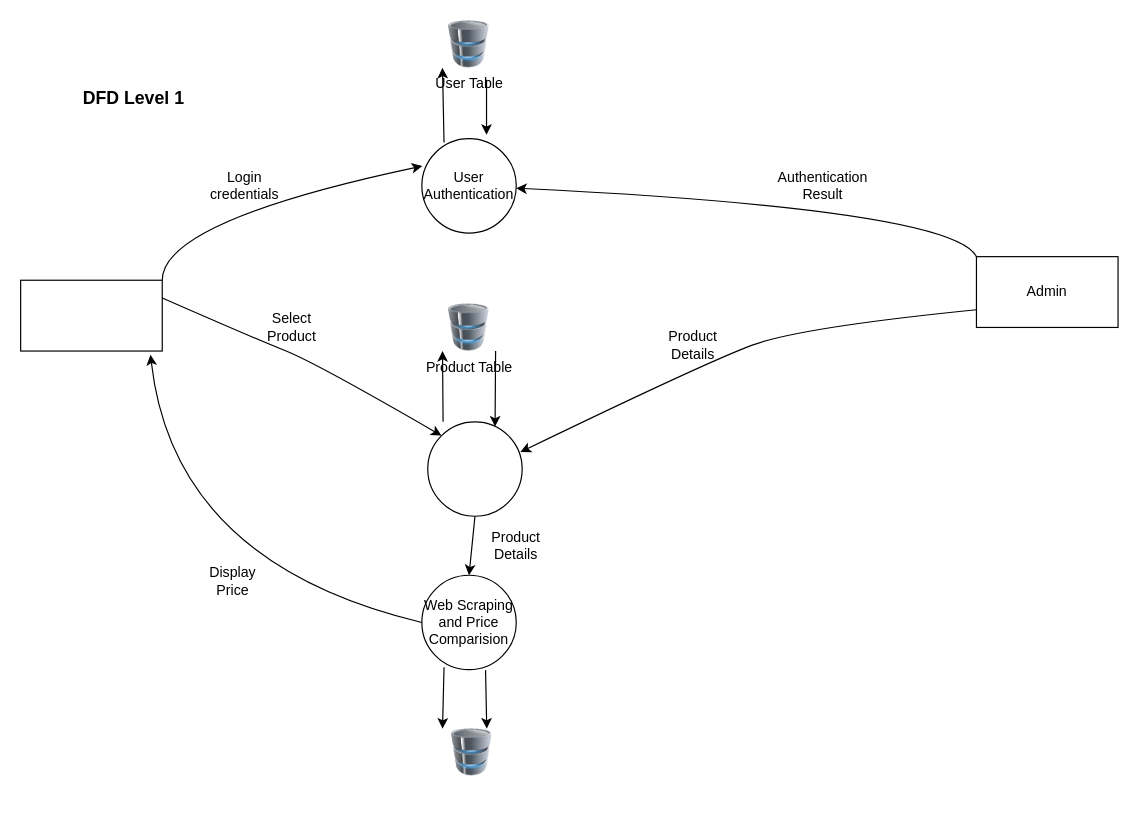
Image size: 1139x820. Some labels were removed from this diagram. The centre of each missing label's shape, as x and y in pixels:
"Price Table" belongs at [471,751].
"Product Selection and Validation" belongs at [474,468].
"User" belongs at [90,315].
